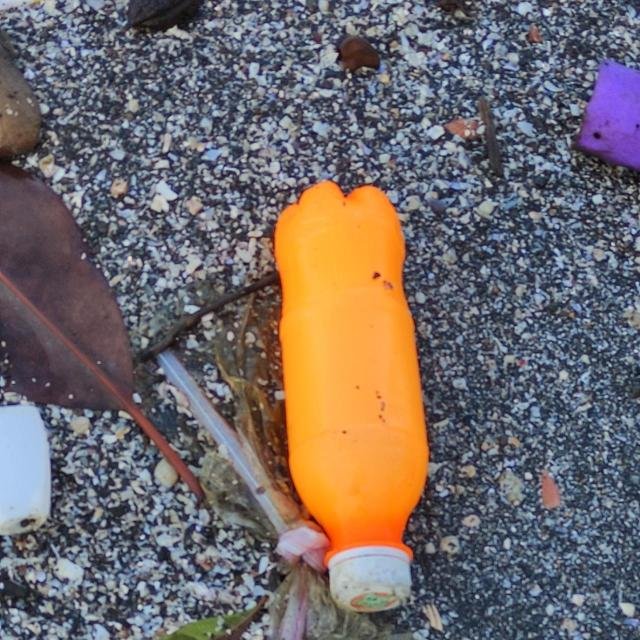plastic_waste: (279, 184, 439, 615)
